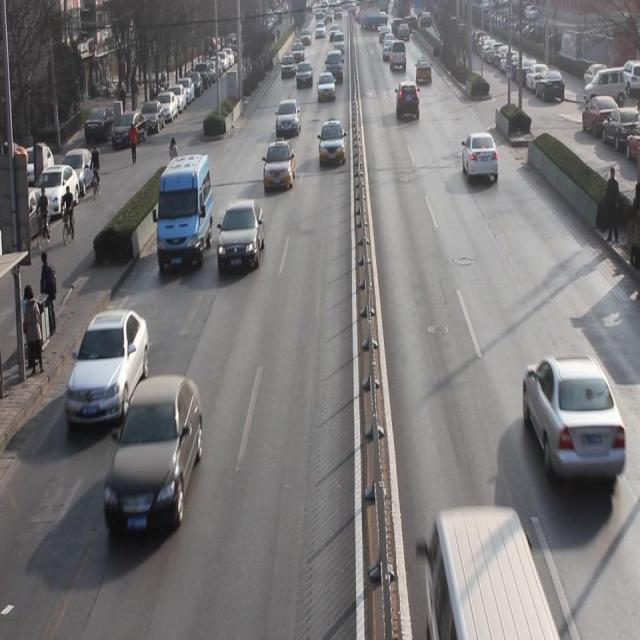car: (103, 385, 205, 535), (524, 358, 621, 488), (67, 314, 150, 423), (218, 201, 266, 275), (462, 131, 498, 185), (260, 140, 296, 194), (318, 119, 347, 170), (275, 100, 301, 141), (397, 82, 420, 123), (316, 71, 337, 103), (296, 60, 313, 89), (280, 54, 297, 80)
truck: (423, 507, 554, 640), (155, 155, 214, 270), (325, 52, 343, 85)
